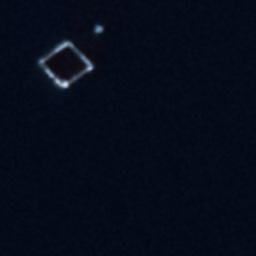square_solid: (36, 40, 96, 91)
